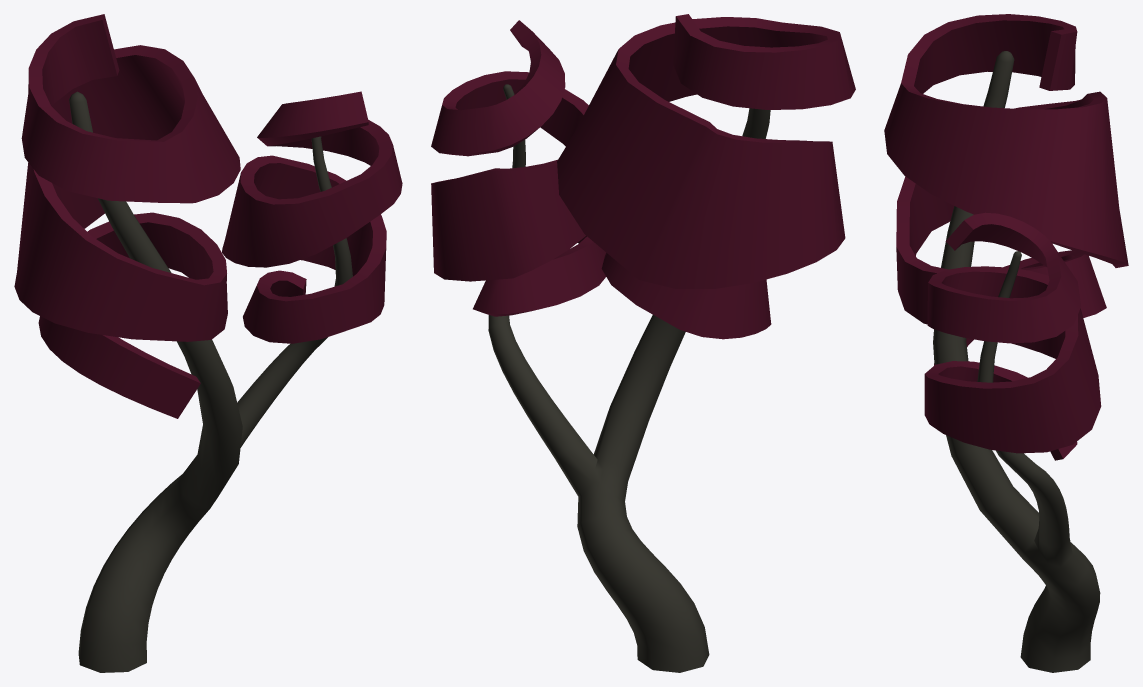
The model's file is Tree Spiral 2.glb.
3 renders of one model, left to right at view 1: azimuth 30°, elevation 25°; view 2: azimuth 150°, elevation 25°; view 3: azimuth 270°, elevation 25°, orthographic. The views are drawn at different scales.
Parts seen in each view (by area): view 1: Tree_Spiral_2; view 2: Tree_Spiral_2; view 3: Tree_Spiral_2.
Boxes of the visible parts, box(x1,y1,x2,y2) form: Tree_Spiral_2: box(14, 14, 402, 672); Tree_Spiral_2: box(431, 14, 855, 672); Tree_Spiral_2: box(884, 14, 1128, 672).
Bounding box in the file's own units: 3.8 × 6.19 × 2.2.
Materials: 1 (1 with a texture image).
